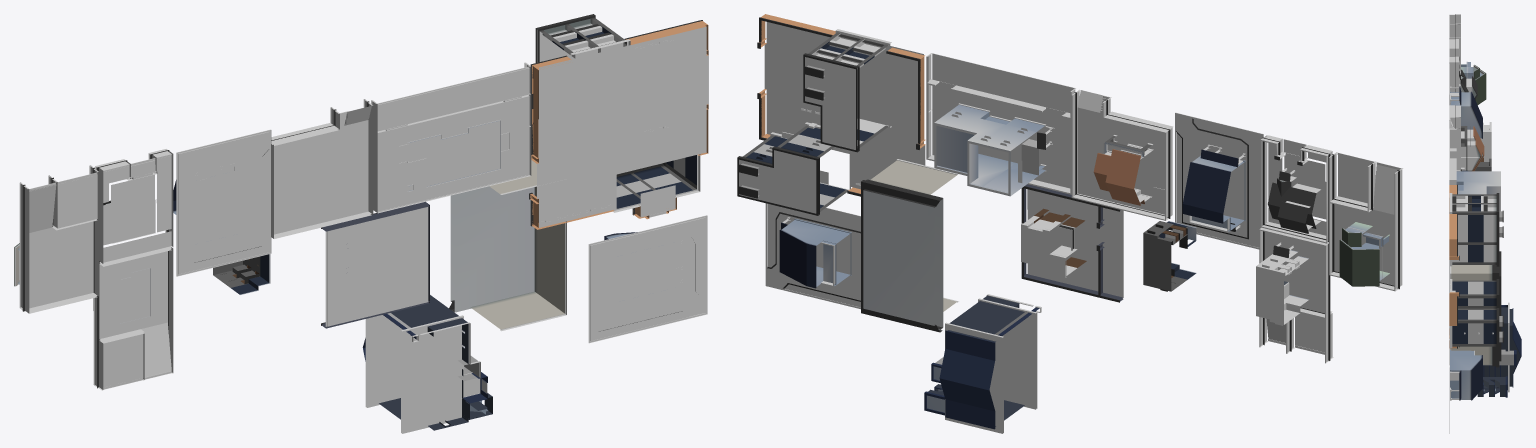
The model's file is SM_000292_merge_w40h102_atlas1_1_6_lv2.fbx.
3 renders of one model, left to right at view 1: azimuth 30°, elevation 25°; view 2: azimuth 150°, elevation 25°; view 3: azimuth 270°, elevation 25°, orthographic. The views are drawn at different scales.
Parts seen in each view (by area): view 1: SM_000292.001; view 2: SM_000292.001; view 3: SM_000292.001.
Boxes of the visible parts, box(x1,y1,x2,y2) form: SM_000292.001: box(14, 14, 708, 433); SM_000292.001: box(737, 14, 1403, 433); SM_000292.001: box(1449, 14, 1521, 433).
Bounding box in the file's own units: 124 × 60.16 × 20.91.
